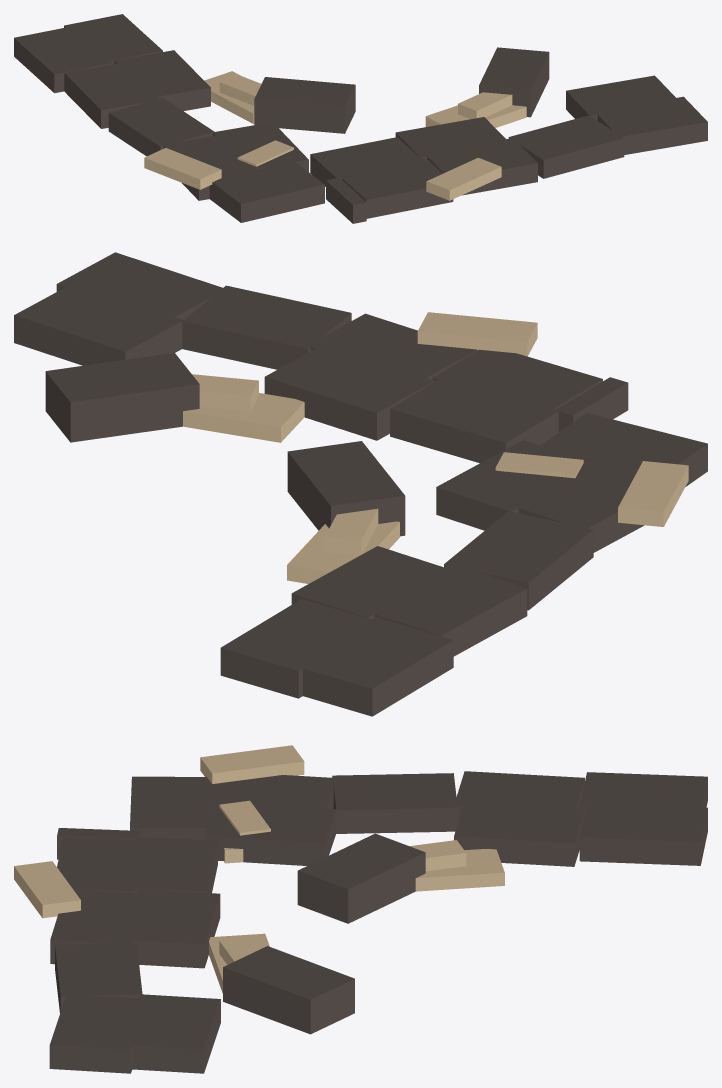
Rendered from SM_PretilEsquina_v0_Recto_e3_Brecha_LOD0.fbx.
3 views of the same model, one above another, from view 1: azimuth 30°, elevation 25°; view 2: azimuth 150°, elevation 25°; view 3: azimuth 270°, elevation 25° (orthographic). The views are drawn at different scales.
Parts seen in each view (by area): view 1: SM_pretil_azotea_v23_LOD0; view 2: SM_pretil_azotea_v23_LOD0; view 3: SM_pretil_azotea_v23_LOD0.
Boxes of the visible parts, x1,y1,x2,y2 form: SM_pretil_azotea_v23_LOD0: (14, 14, 707, 223); SM_pretil_azotea_v23_LOD0: (14, 252, 707, 716); SM_pretil_azotea_v23_LOD0: (14, 745, 707, 1073).
Size of the model in its own units: 4.75 by 0.26 by 4.74.
